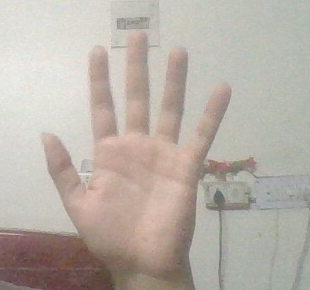move: (38, 31, 230, 290)
